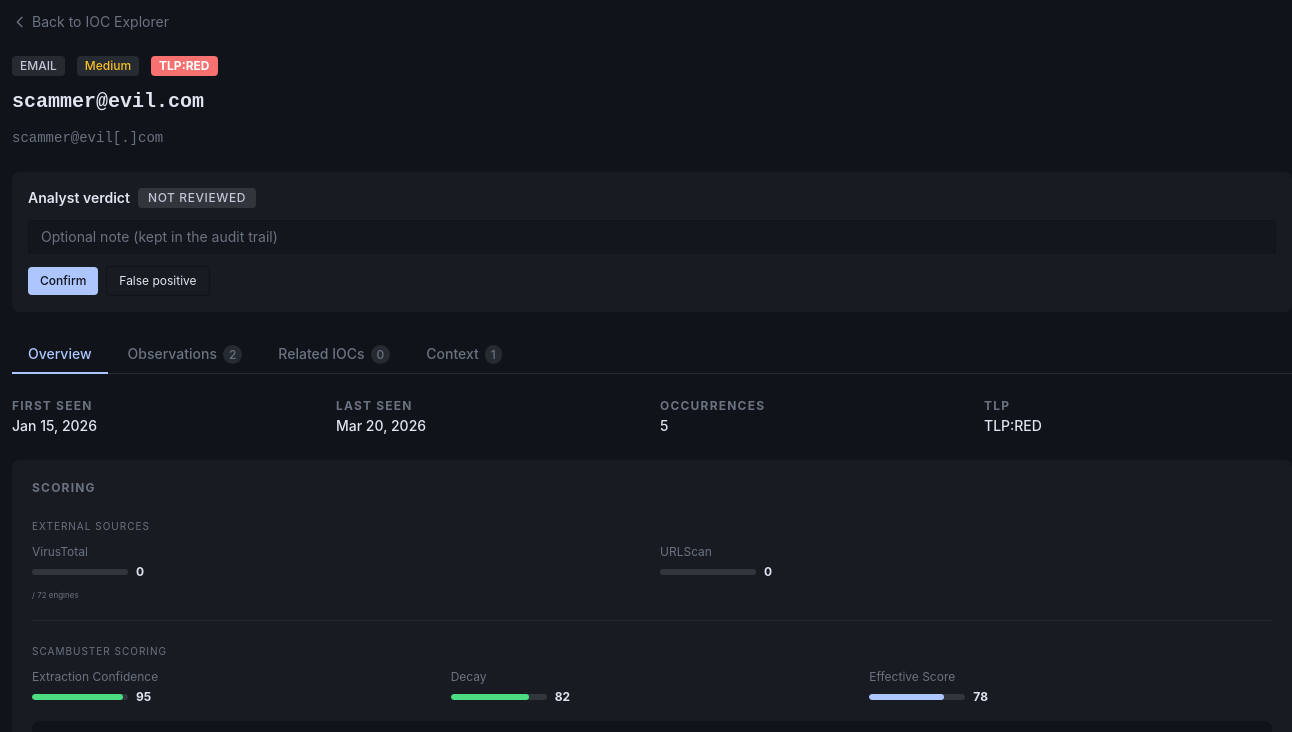
Test case: IocDetail — coverage gaps › renders context tab with pending status
Check: the heading "scammer@evil.com" is shown, box 12,90 -> 204,113
Click the button "Context1". click: [464, 355]
box: 410,336 -> 518,374
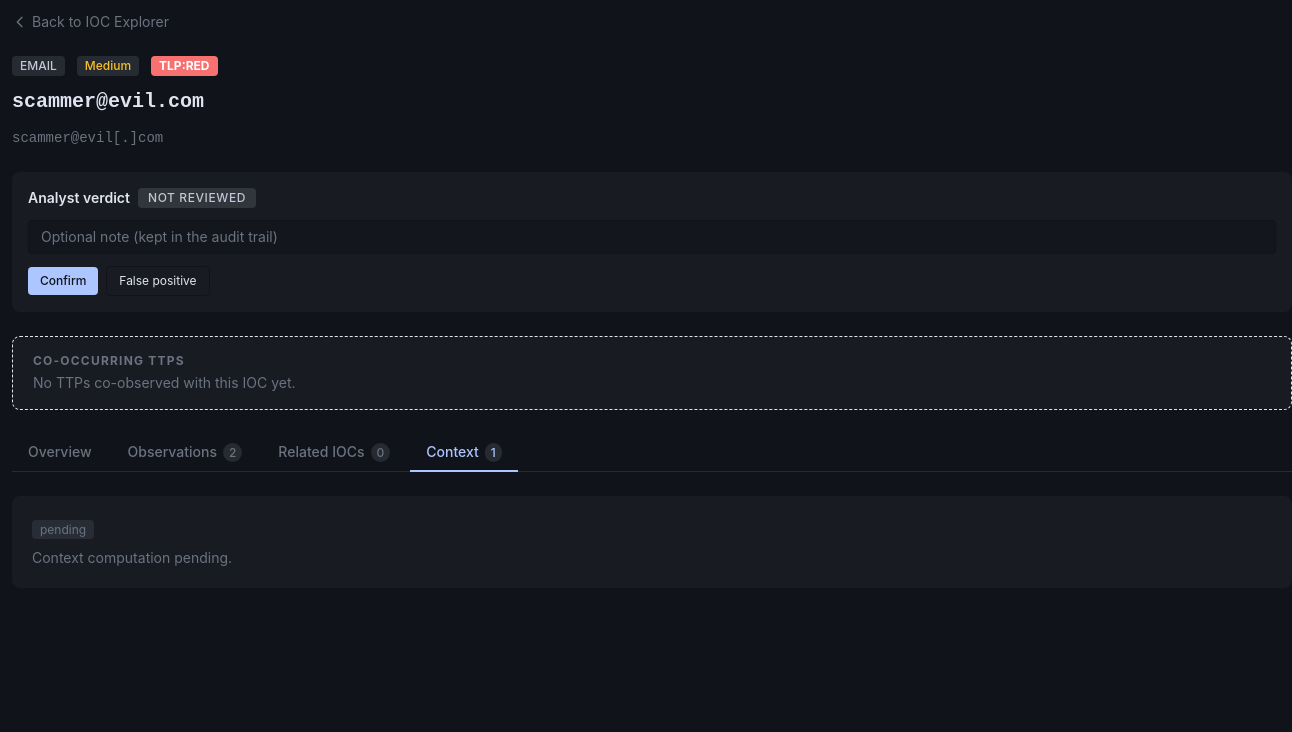
Check: the text "pending" is shown, box 32,520 -> 94,539
